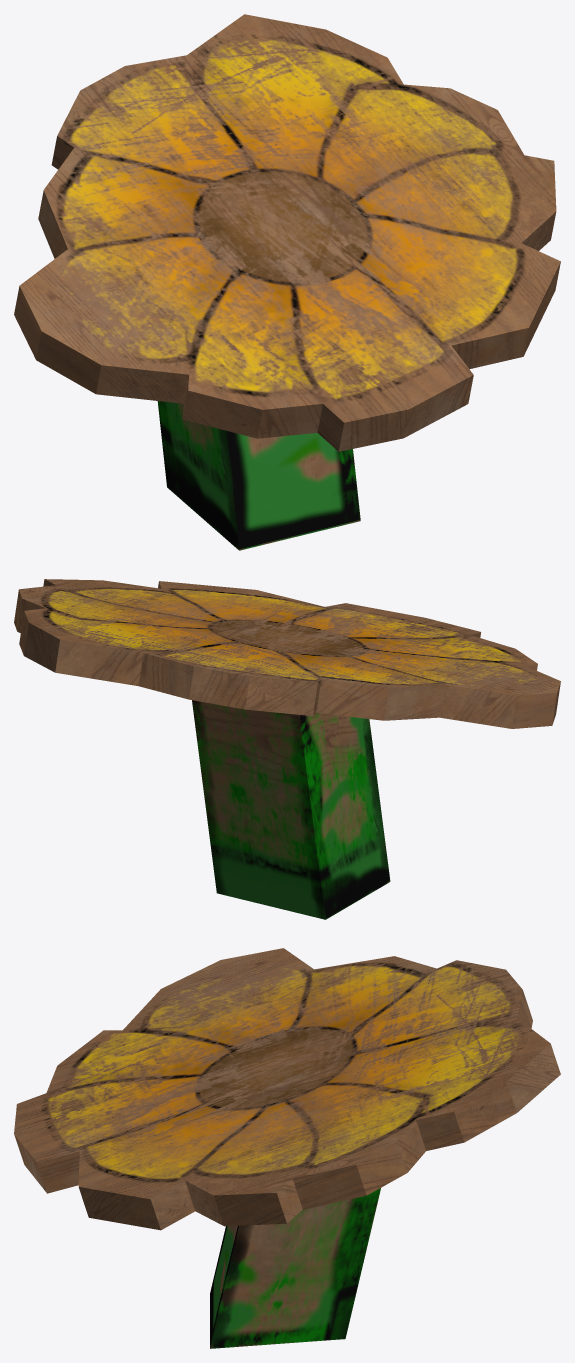
The model's file is Flor_Girasol.fbx.
3 renders of one model, top to bottom at view 1: azimuth 30°, elevation 25°; view 2: azimuth 150°, elevation 25°; view 3: azimuth 270°, elevation 25°, orthographic. The views are drawn at different scales.
Visible parts, largest first — view 1: Flor, Cube; view 2: Flor, Cube; view 3: Flor, Cube.
Part boxes in pixels (box(x1,y1,x2,y2)): Flor: box(14, 14, 560, 451); Cube: box(157, 401, 360, 550); Flor: box(14, 579, 560, 728); Cube: box(192, 700, 390, 919); Flor: box(14, 948, 560, 1230); Cube: box(210, 1188, 380, 1348).
Bounding box in the file's own units: 169 × 106 × 157.
1 material, 1 textured.
